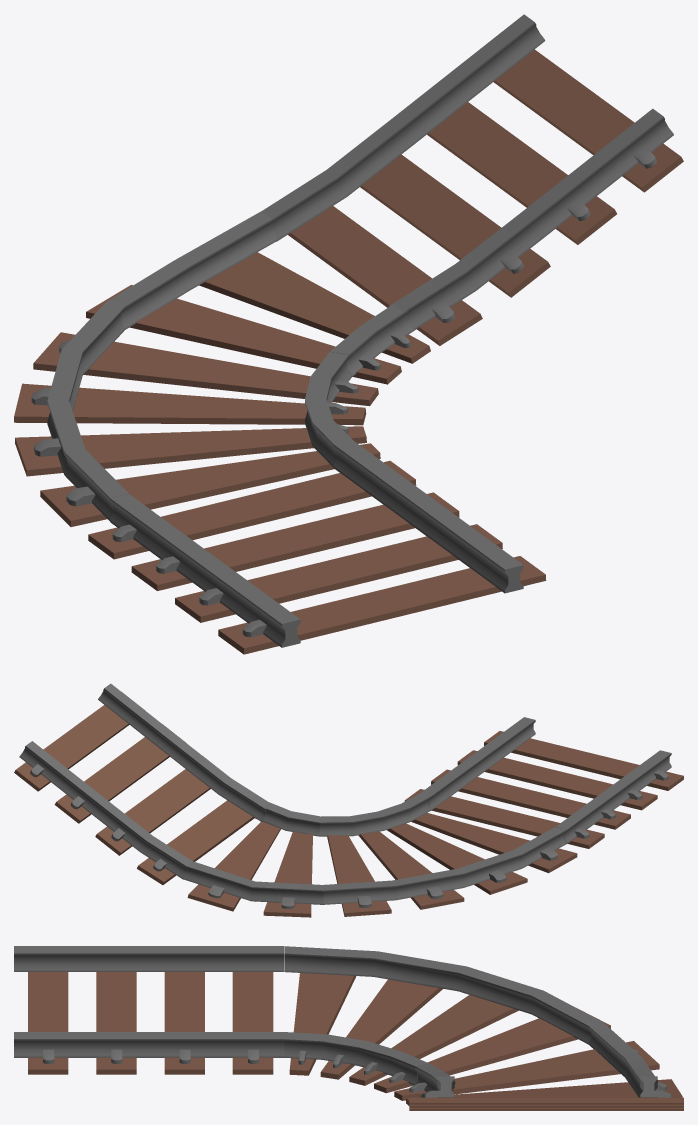
File: trilho_L_up.fbx
The picture shows the model from 3 angles, top to bottom: view 1: azimuth 30°, elevation 25°; view 2: azimuth 150°, elevation 25°; view 3: azimuth 270°, elevation 25°; orthographic projection. The views are drawn at different scales.
Parts seen in each view (by area): view 1: trilho_L1; view 2: trilho_L1; view 3: trilho_L1.
Part boxes in pixels (<box>): trilho_L1: <box>14,14,683,654</box>; trilho_L1: <box>14,683,683,917</box>; trilho_L1: <box>14,946,683,1110</box>.
Size of the model in its own units: 464 by 117 by 495.
